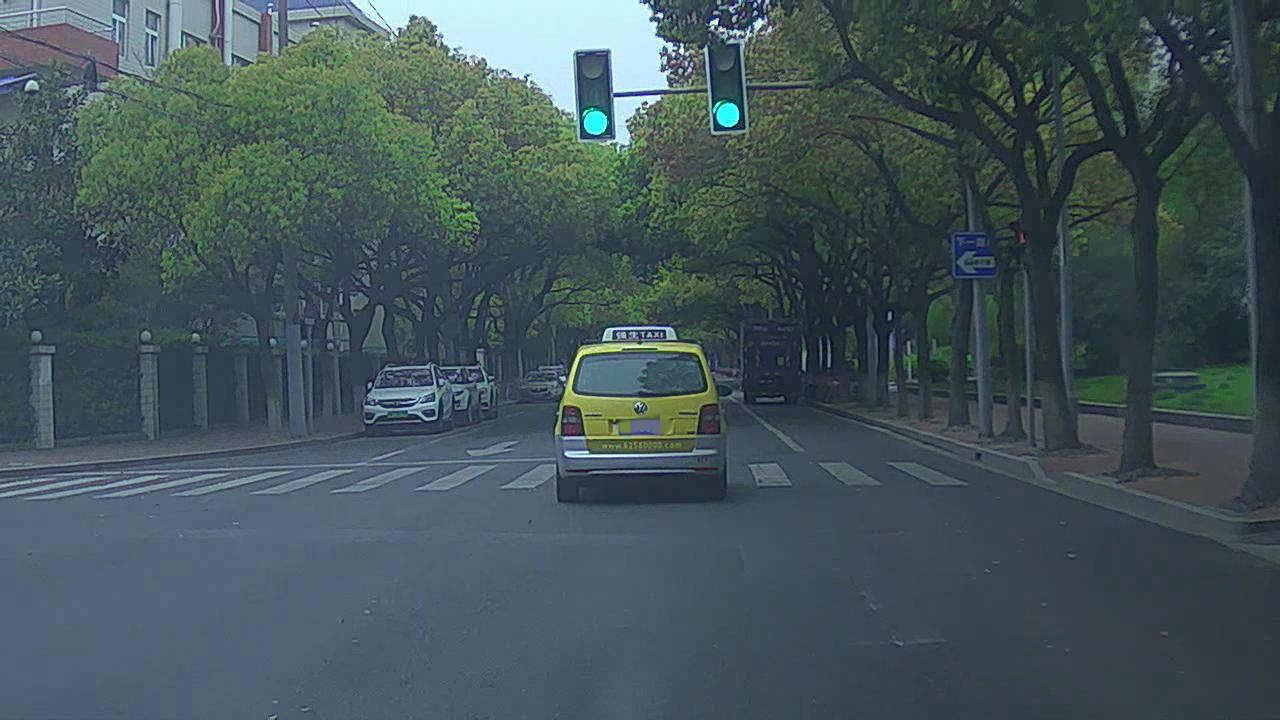traffic_light: (704, 37, 748, 135), (574, 51, 618, 142)
